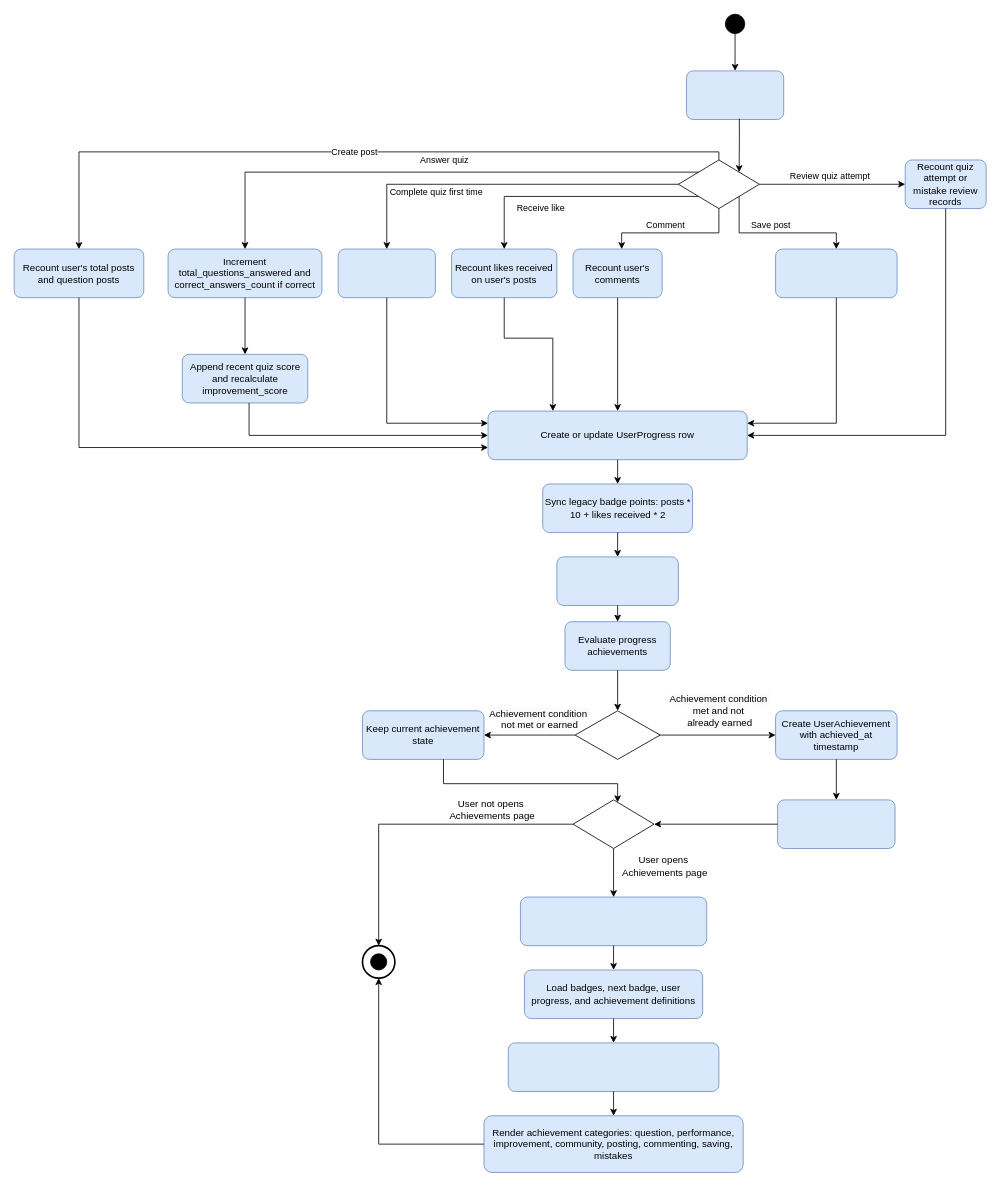
This 1000x1187 diagram has some shape labels left out. Each missing label, with the box of its shape:
Attach point badges when points_required is reached: (556, 556, 678, 605)
Calculate current metric, threshold, progress percentage, and earned state: (507, 1042, 719, 1091)
Increment quizzes_completed: (337, 248, 435, 298)
Load summary: points, posts, likes received, comments, saves, mistakes reviewed: (520, 896, 707, 946)
Recount user's bookmark items: (775, 248, 897, 298)
Return newly earned achievement key to UI when action supports it: (777, 799, 895, 848)
User performs learning or community action: (686, 70, 784, 119)
